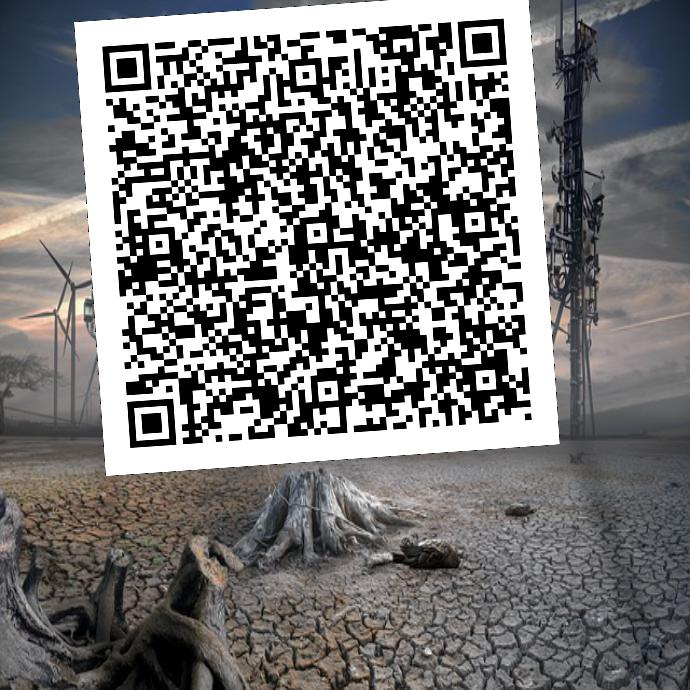qr_code: (74, 0, 559, 480)
